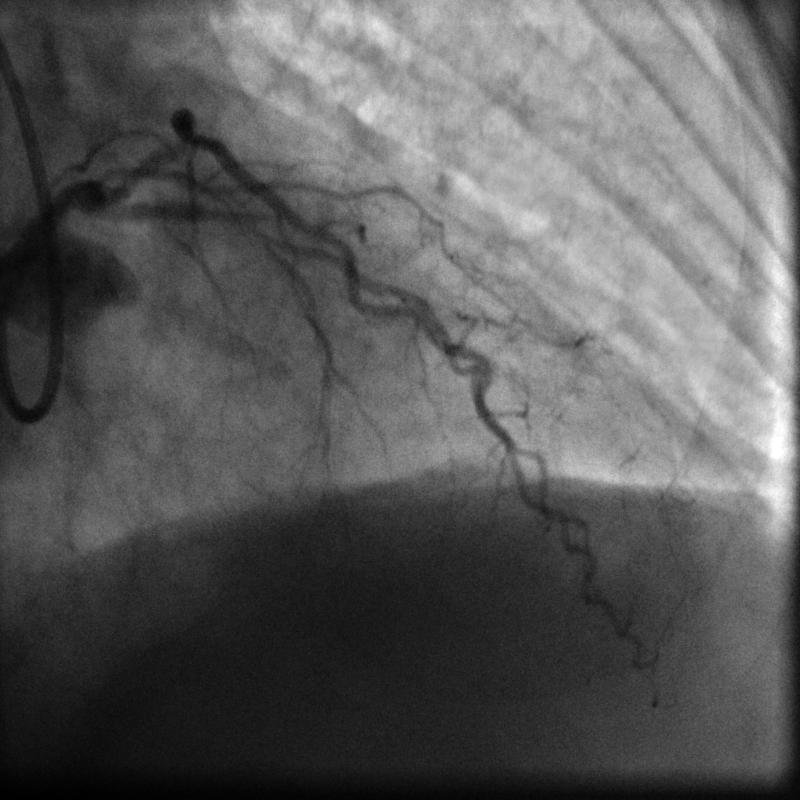Stenosis: (215, 191, 268, 227)
